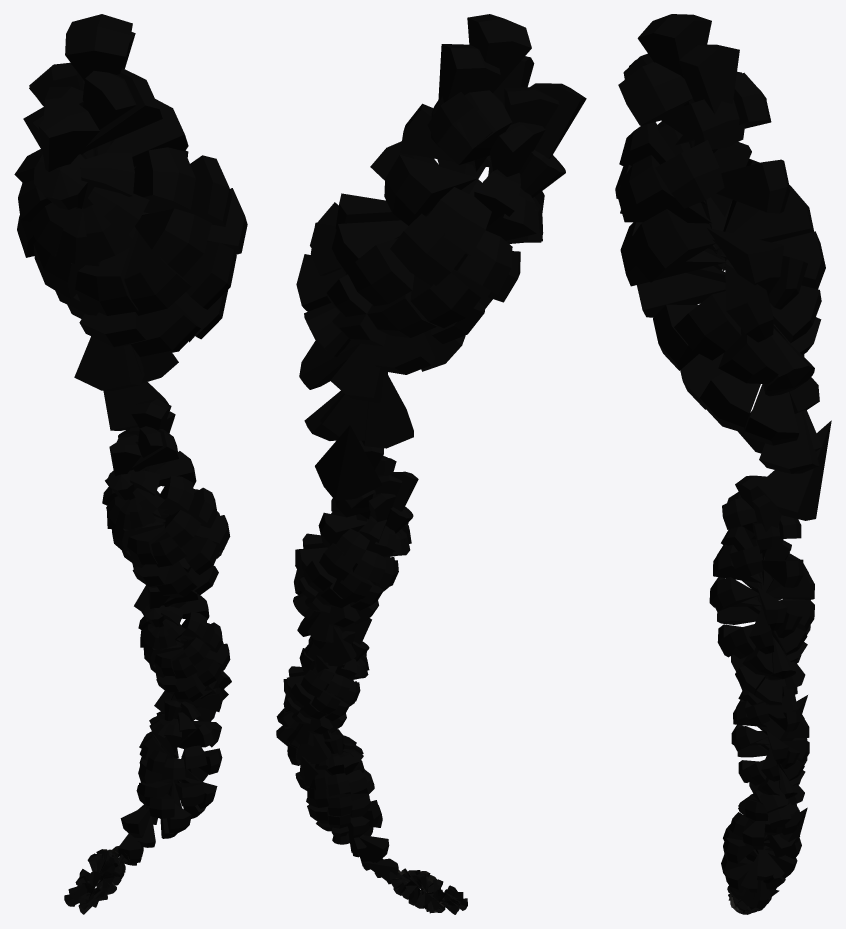
Rendered from body.obj.
3 renders of one model, left to right at view 1: azimuth 30°, elevation 25°; view 2: azimuth 150°, elevation 25°; view 3: azimuth 270°, elevation 25°, orthographic. The views are drawn at different scales.
Parts seen in each view (by area): view 1: Sphere_cell_012_Sphere_cell_172; view 2: Sphere_cell_012_Sphere_cell_172; view 3: Sphere_cell_012_Sphere_cell_172.
Part boxes in pixels (box(x1,y1,x2,y2)): Sphere_cell_012_Sphere_cell_172: box(14, 14, 247, 914); Sphere_cell_012_Sphere_cell_172: box(276, 14, 586, 914); Sphere_cell_012_Sphere_cell_172: box(615, 14, 831, 914).
Size of the model in its own units: 1.22 by 4.23 by 0.9371.
Materials: 1 (1 with a texture image).
